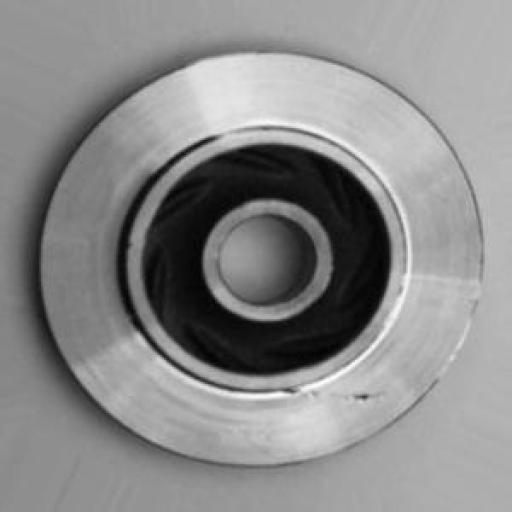defect: (258, 376, 411, 422)
